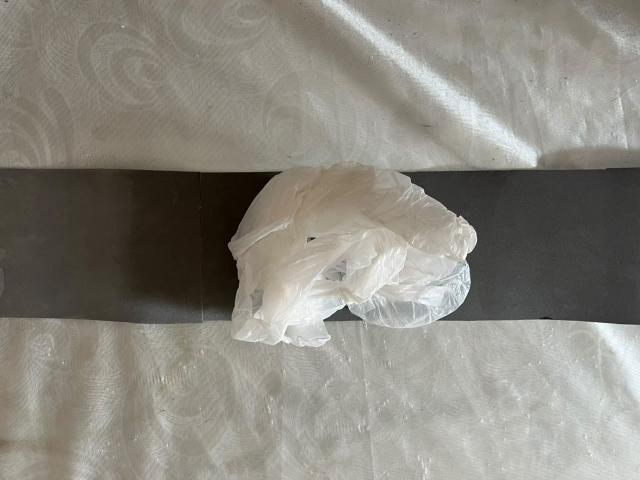LDPE: (200, 148, 500, 371)
